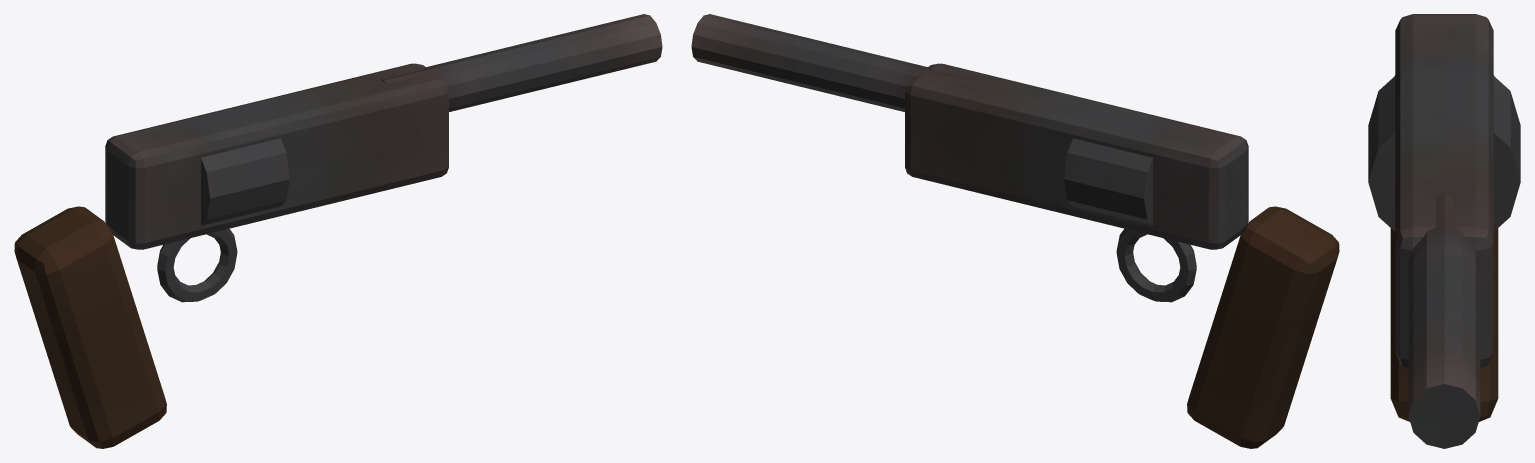
File: TY32_CapGun.glb
3 renders of one model, left to right at view 1: azimuth 30°, elevation 25°; view 2: azimuth 150°, elevation 25°; view 3: azimuth 270°, elevation 25°, orthographic. The views are drawn at different scales.
Visible parts, largest first — view 1: TY32_CapGun; view 2: TY32_CapGun; view 3: TY32_CapGun.
Boxes of the visible parts, x1=… form: TY32_CapGun: x1=14, y1=14, x2=662, y2=448; TY32_CapGun: x1=691, y1=14, x2=1339, y2=448; TY32_CapGun: x1=1368, y1=14, x2=1520, y2=448.
Bounding box in the file's own units: 0.2 × 0.0886 × 0.029.
Materials: 2 (2 with a texture image).
